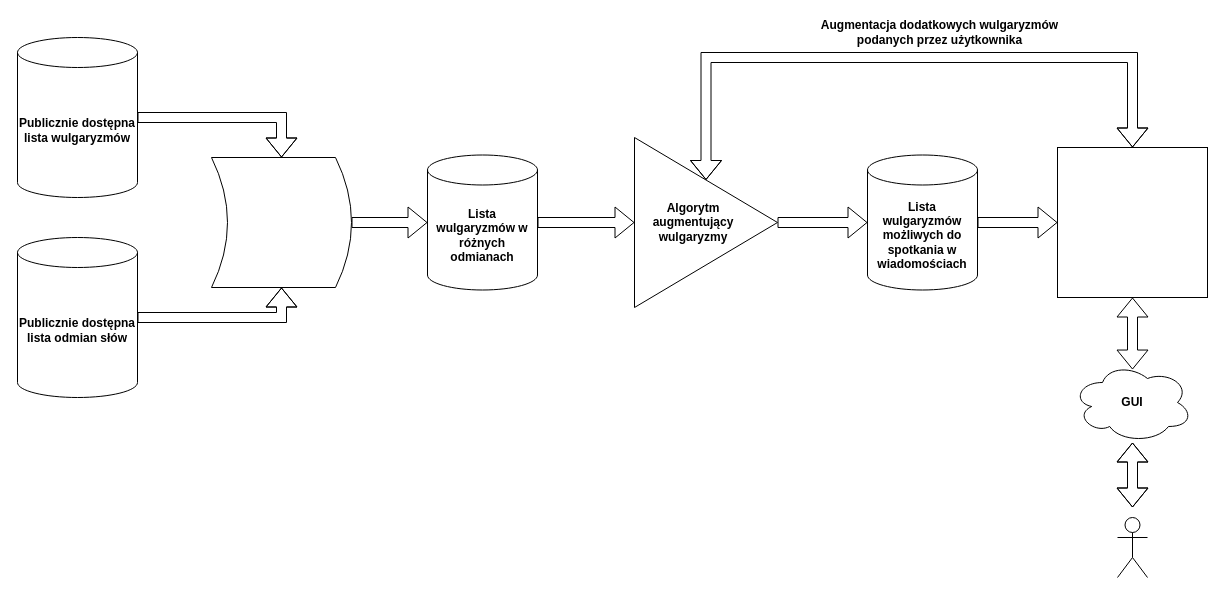
Image size: 1225x615. Some labels were removed from this diagram. Each missing label, with the centre of its shape:
Algorytm cenzurujący wiadomości: (x=1132, y=222)
Algorytm filtrujący wulgaryzmy: (x=281, y=222)
Użytkownik: (x=1132, y=547)
